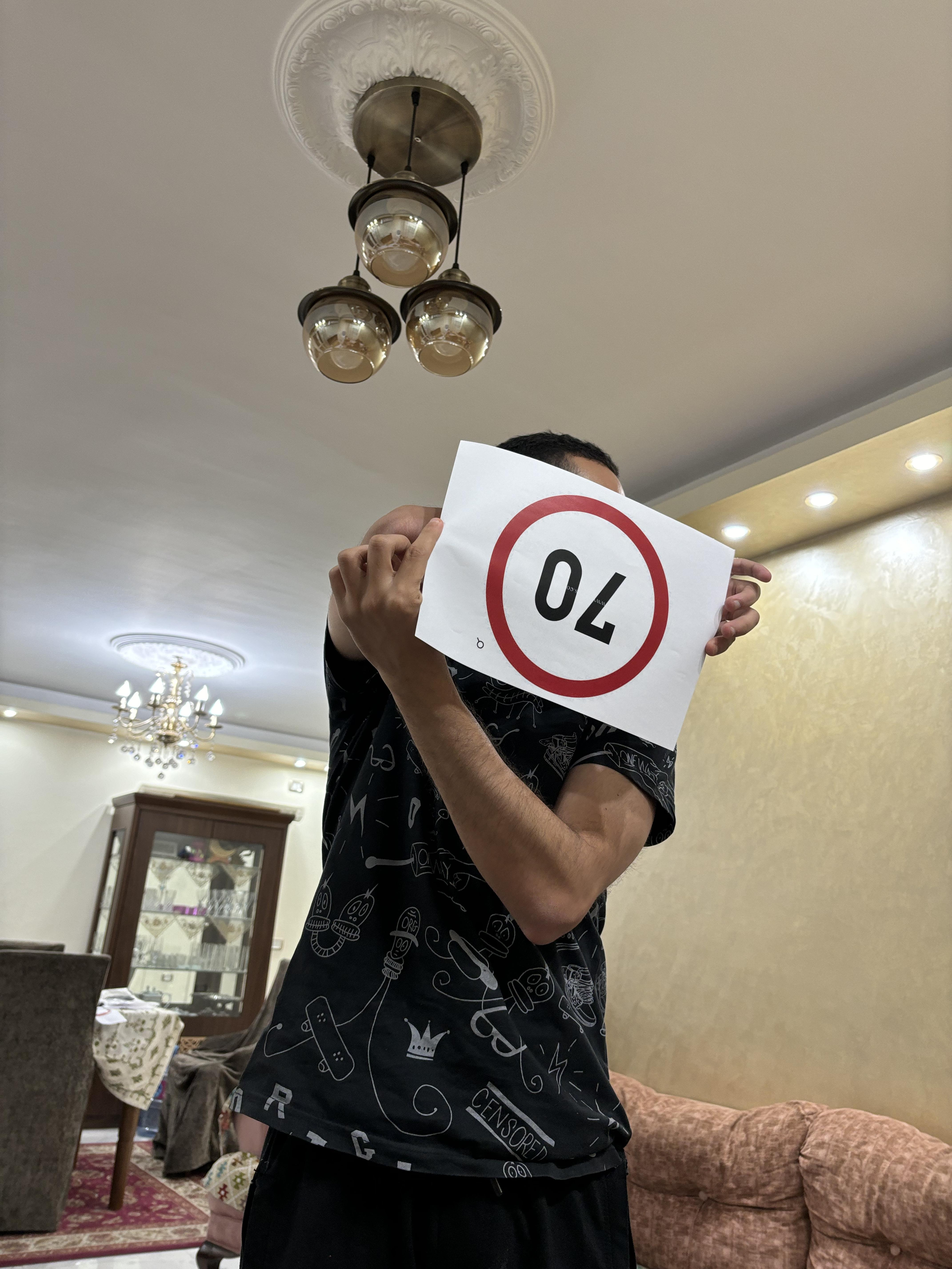70-Speed: (483, 485, 673, 698)
